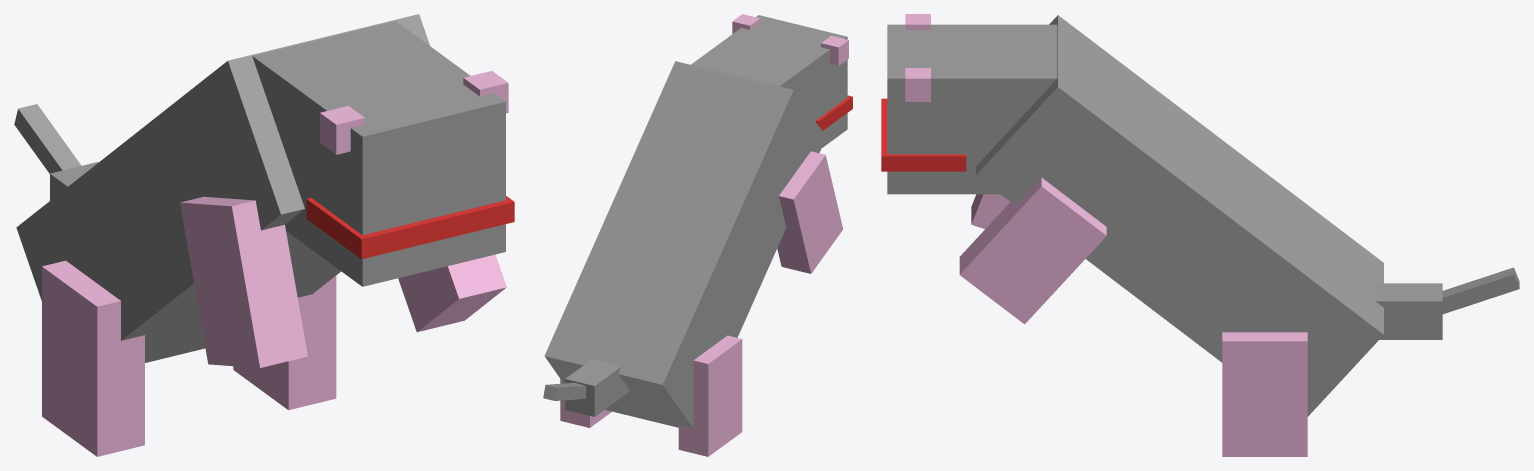
File: ManEater.fbx
The picture shows the model from 3 angles, left to right: view 1: azimuth 30°, elevation 25°; view 2: azimuth 150°, elevation 25°; view 3: azimuth 270°, elevation 25°; orthographic projection. The views are drawn at different scales.
Visible parts, largest first — view 1: Cube.001, Cube.003, Cube.004, Cube.005, Cube.002, Cube.007, Cube.011, Cube.010; view 2: Cube.001, Cube.004, Cube.003, Cube.005, Cube.011, Cube.007, Cube.010; view 3: Cube.001, Cube.002, Cube.005, Cube.007, Cube.003, Cube.010.
Part boxes in pixels (x1,y1,x2,y2): Cube.001: (14, 14, 505, 362); Cube.003: (180, 196, 307, 367); Cube.004: (42, 260, 144, 456); Cube.005: (233, 275, 336, 410); Cube.002: (398, 254, 506, 332); Cube.007: (306, 196, 514, 259); Cube.011: (320, 106, 364, 154); Cube.010: (463, 71, 508, 113); Cube.001: (543, 15, 847, 428); Cube.004: (678, 335, 742, 456); Cube.003: (777, 151, 843, 273); Cube.005: (560, 379, 611, 427); Cube.011: (821, 35, 848, 65); Cube.007: (815, 95, 852, 130); Cube.010: (732, 14, 760, 33); Cube.001: (887, 15, 1519, 416); Cube.002: (959, 177, 1106, 324); Cube.005: (1222, 332, 1307, 456); Cube.007: (881, 98, 966, 171); Cube.003: (971, 194, 1009, 228); Cube.010: (905, 68, 930, 101).
Size of the model in its own units: 55 by 104 by 165.
